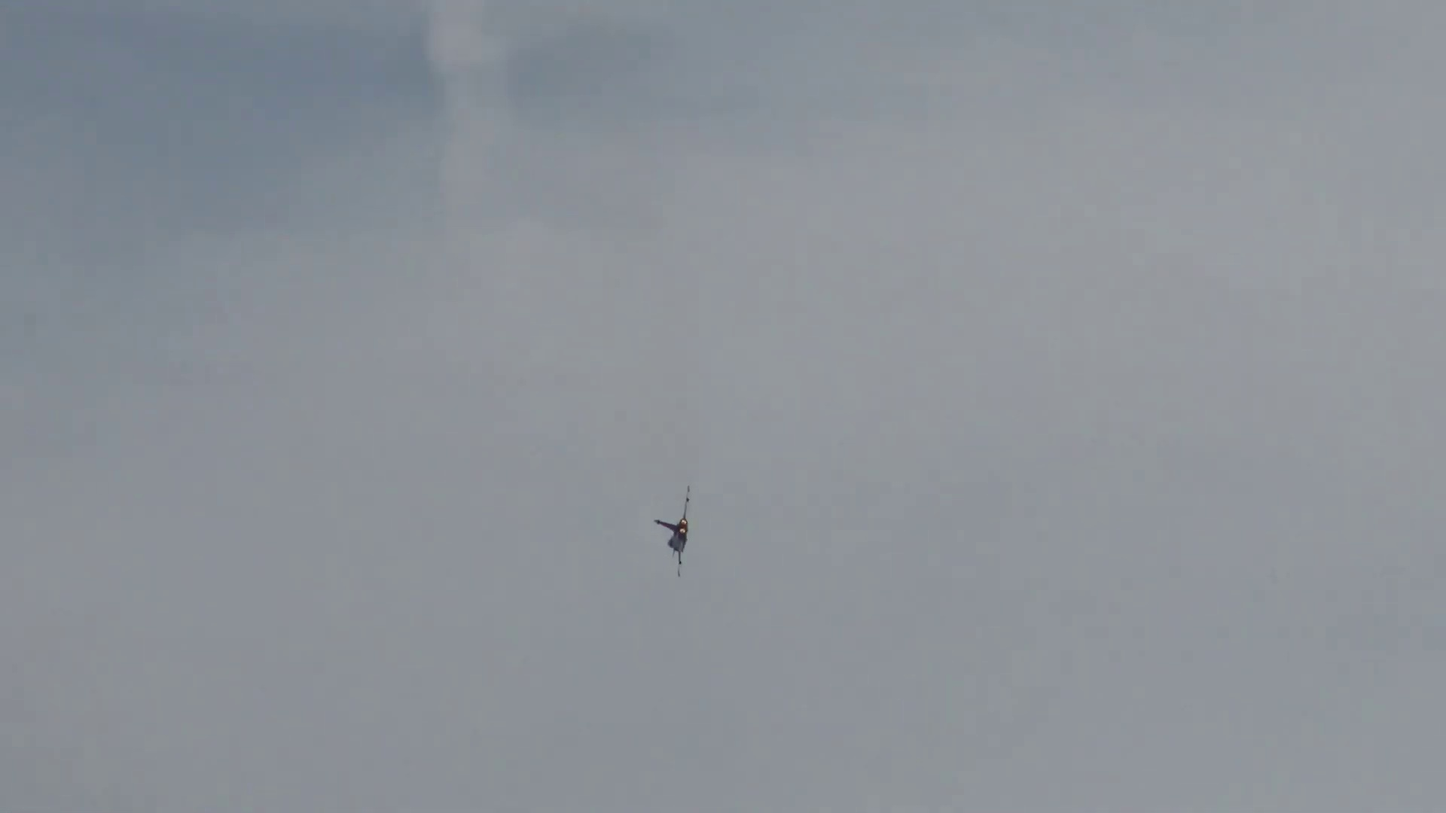Rafale: (650, 486, 694, 579)
